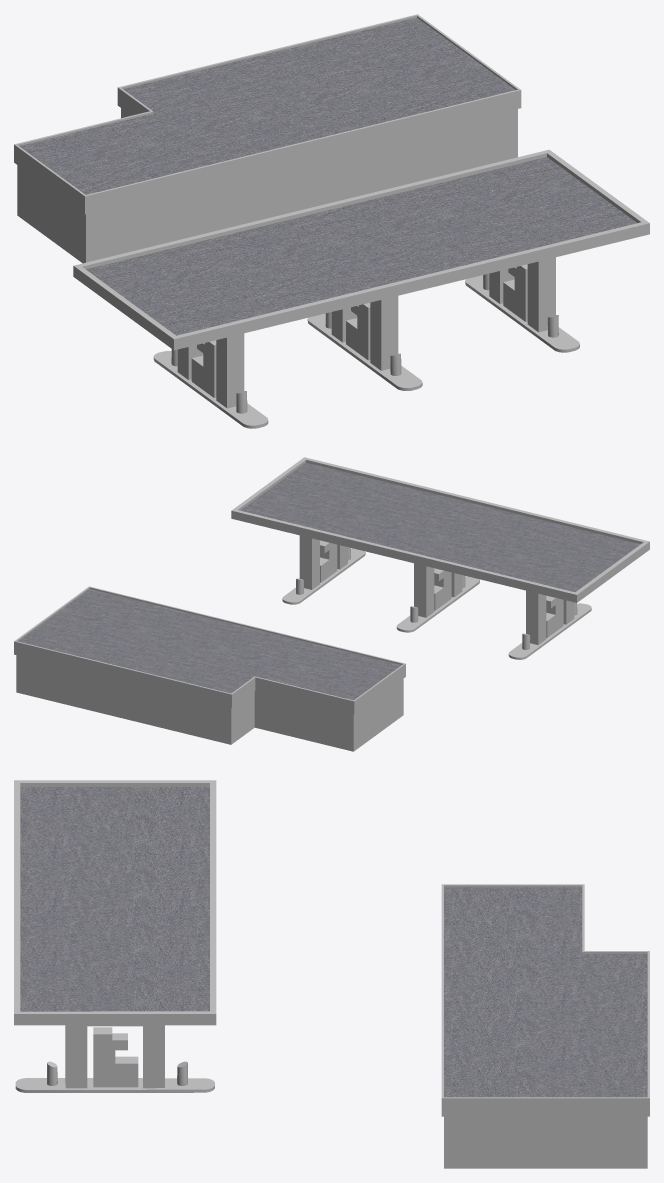
File: SM_AZS.FBX
3 renders of one model, top to bottom at view 1: azimuth 30°, elevation 25°; view 2: azimuth 150°, elevation 25°; view 3: azimuth 270°, elevation 25°, orthographic. The views are drawn at different scales.
Parts seen in each view (by area): view 1: SM_AZS; view 2: SM_AZS; view 3: SM_AZS.
Boxes of the visible parts, box(x1,y1,x2,y2) form: SM_AZS: box(14, 14, 649, 428); SM_AZS: box(14, 457, 649, 751); SM_AZS: box(14, 780, 649, 1168).
Size of the model in its own units: 25.55 by 4.95 by 24.99.
